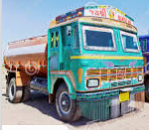truck: (1, 3, 146, 123)
